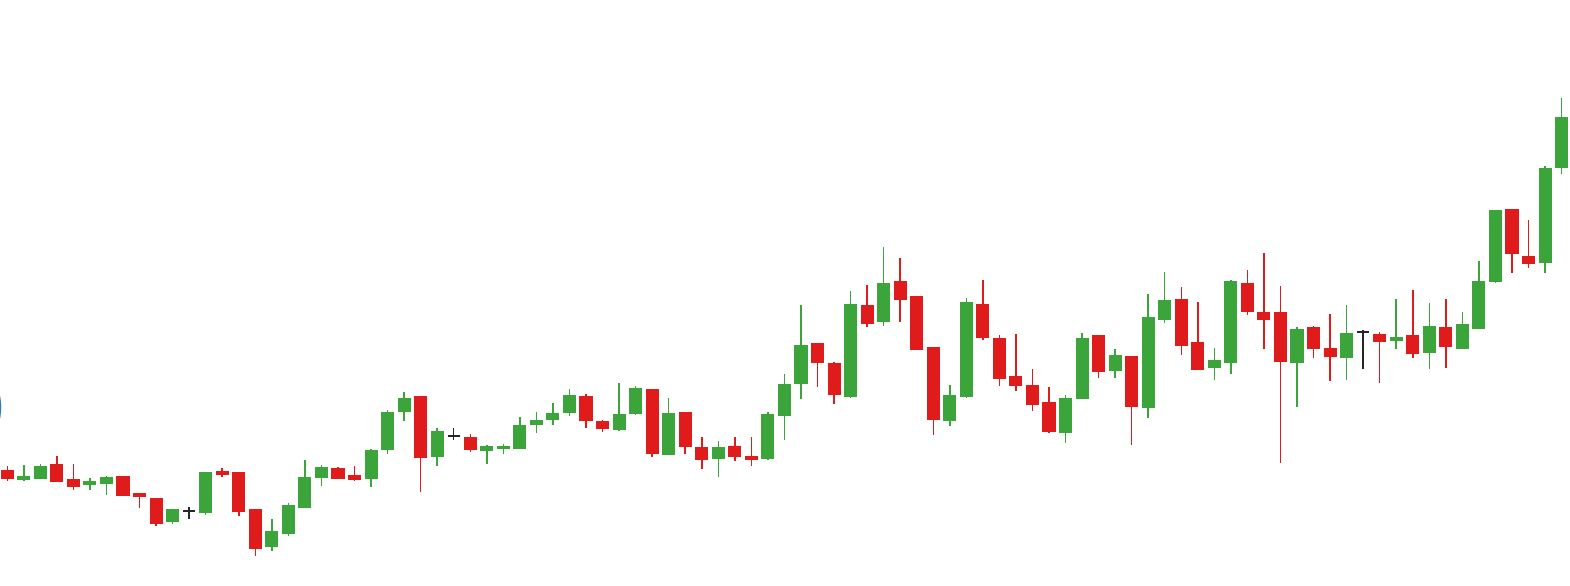buy: (1125, 309, 1303, 466), (926, 343, 1075, 443), (152, 479, 296, 555)
